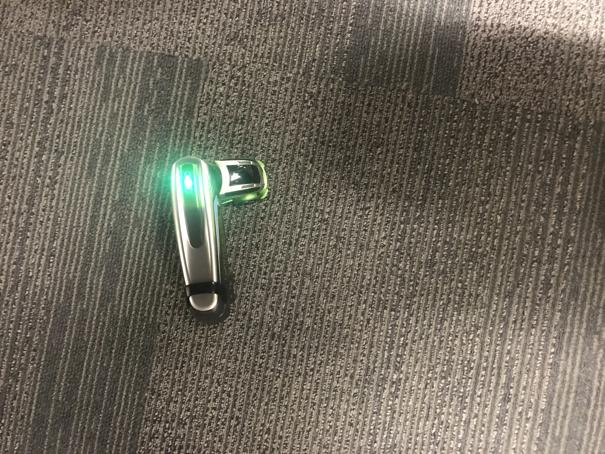Freewheel: (165, 156, 269, 323)
